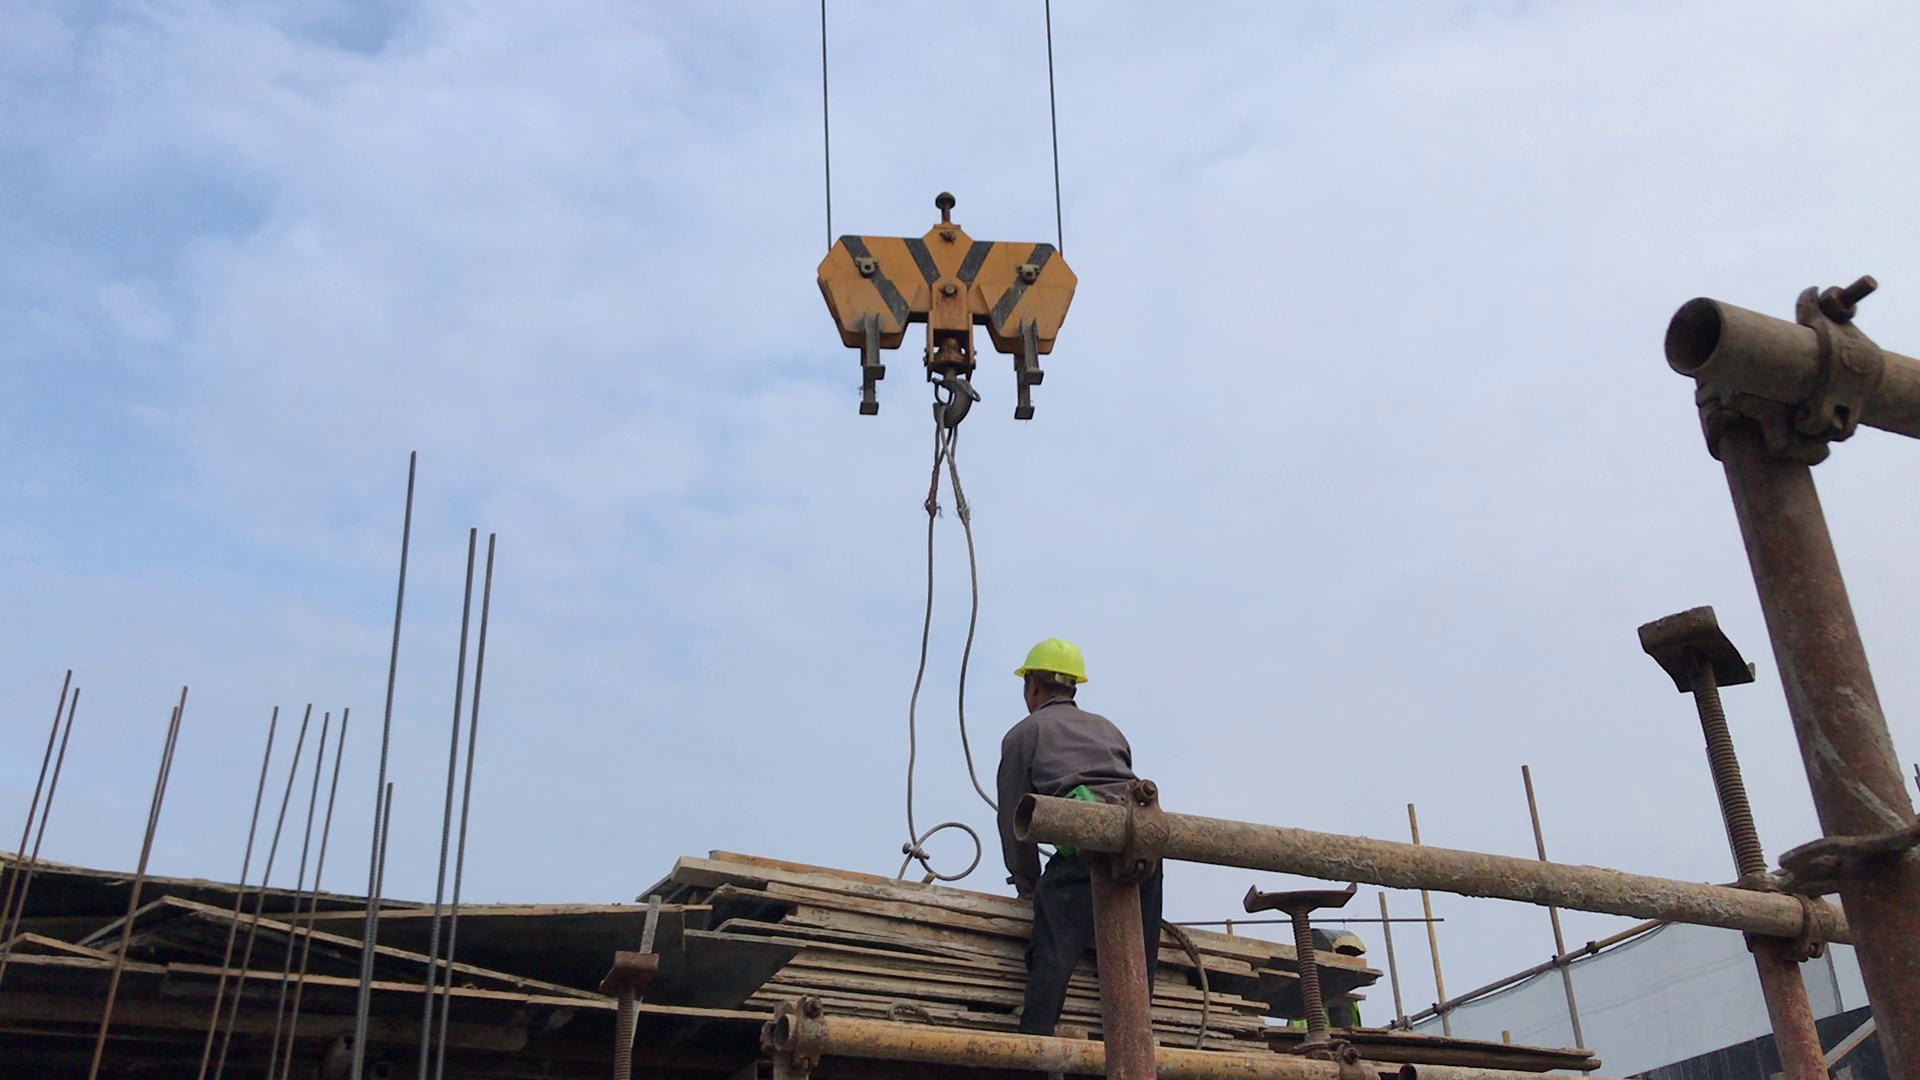board: (683, 839, 1373, 1046)
helmet: (1011, 638, 1086, 685)
hook: (816, 195, 1079, 419)
person: (996, 637, 1163, 1037)
